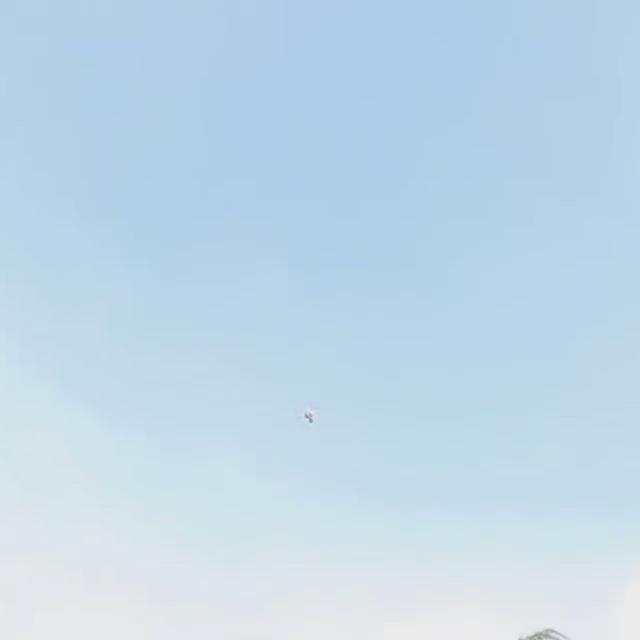drone: (300, 396, 327, 431)
